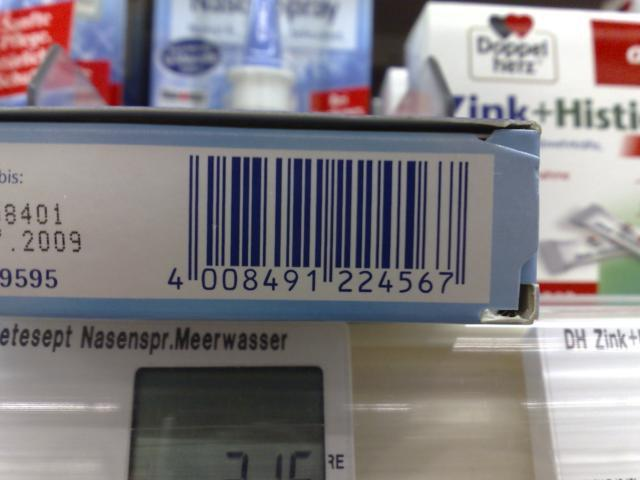Barcode: (159, 145, 487, 306)
